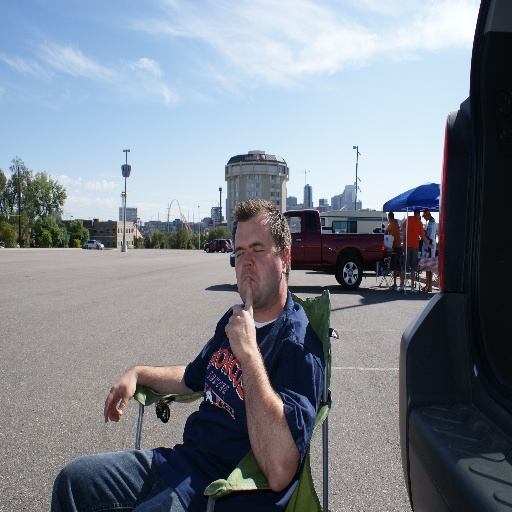hand: (99, 368, 146, 430), (224, 276, 256, 367)
